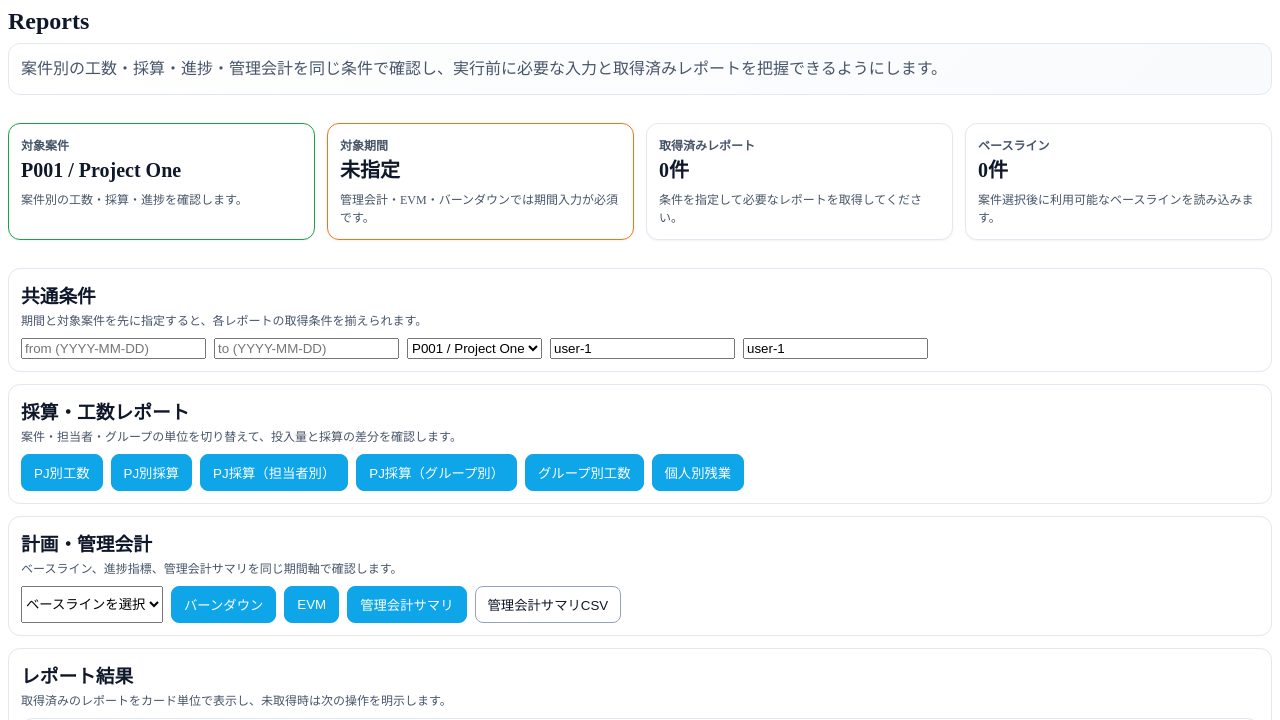
Test case: Reports › validates required inputs before running dependent reports
This screenshot has width=1280, height=720.
Step 1. Select "案件を選択" in the dropdown named "案件選択" → point(474, 348), box [407,338,542,359]
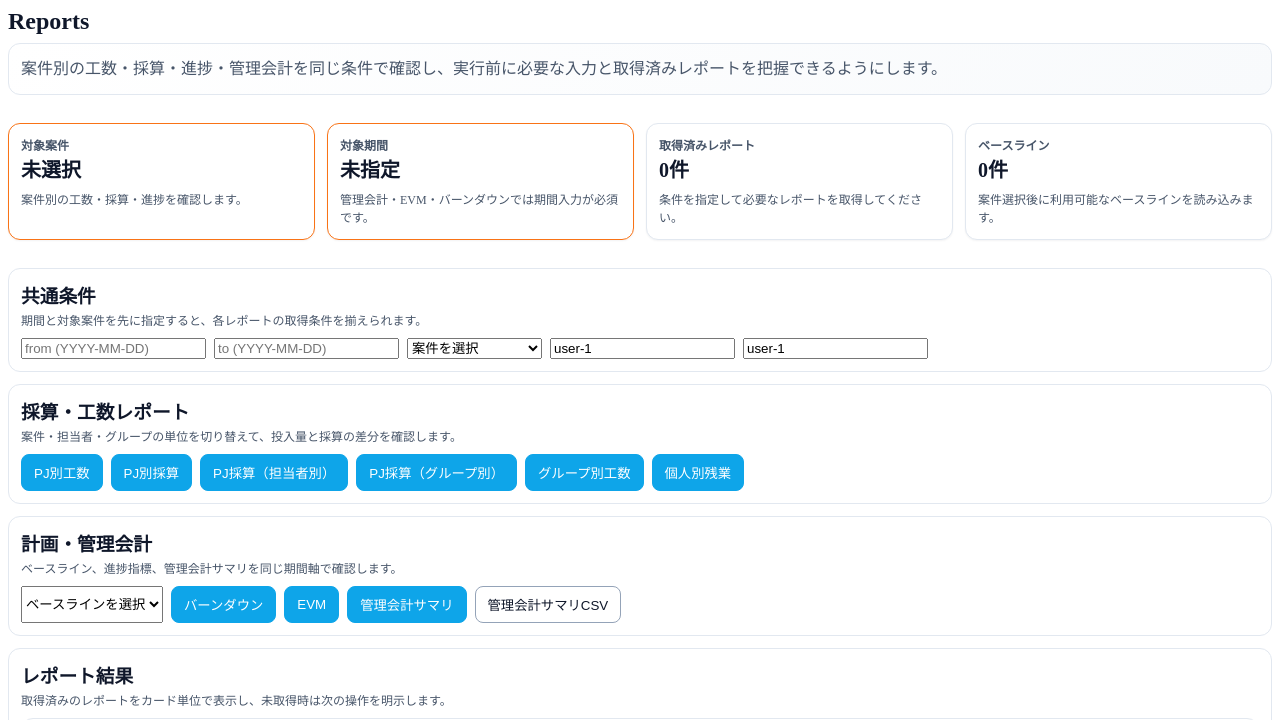
Step 2. Click the button "PJ別工数" → point(62, 472), box [21,454,102,491]
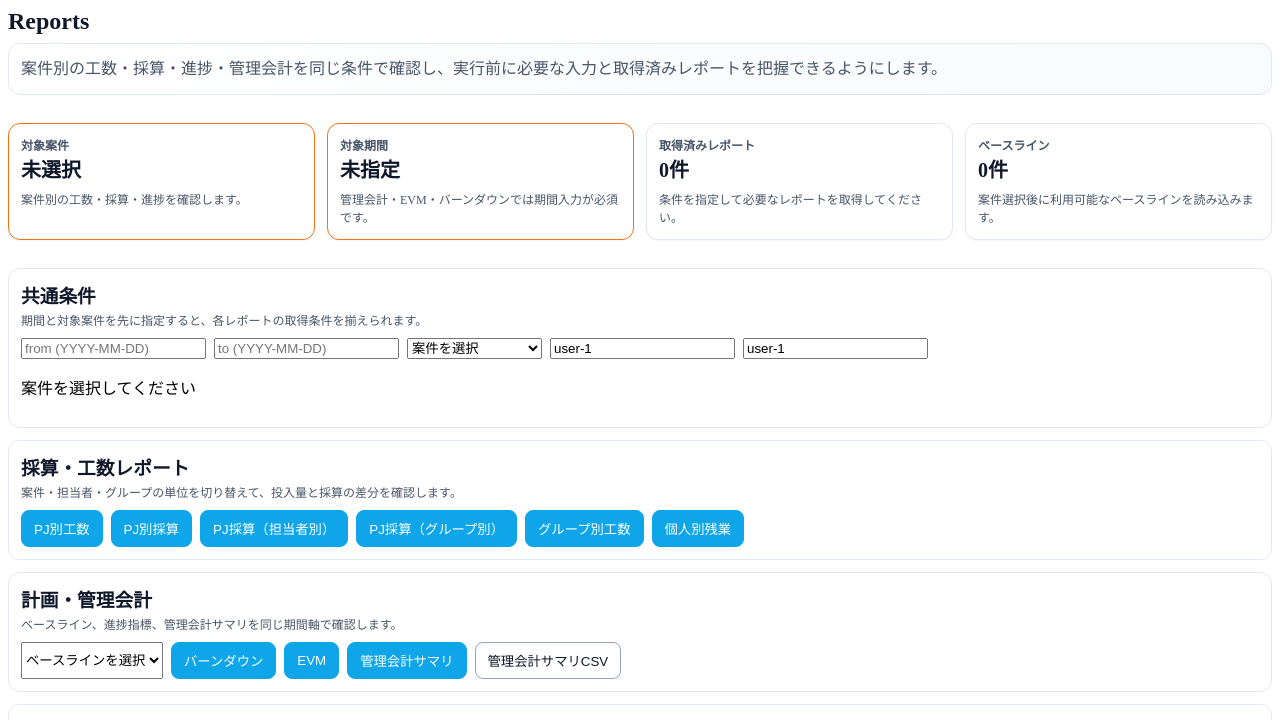
Expected: the text "案件を選択してください" is shown, [21,380,196,397]
Step 3. Click the button "管理会計サマリCSV" → point(548, 660), box [474,642,621,679]
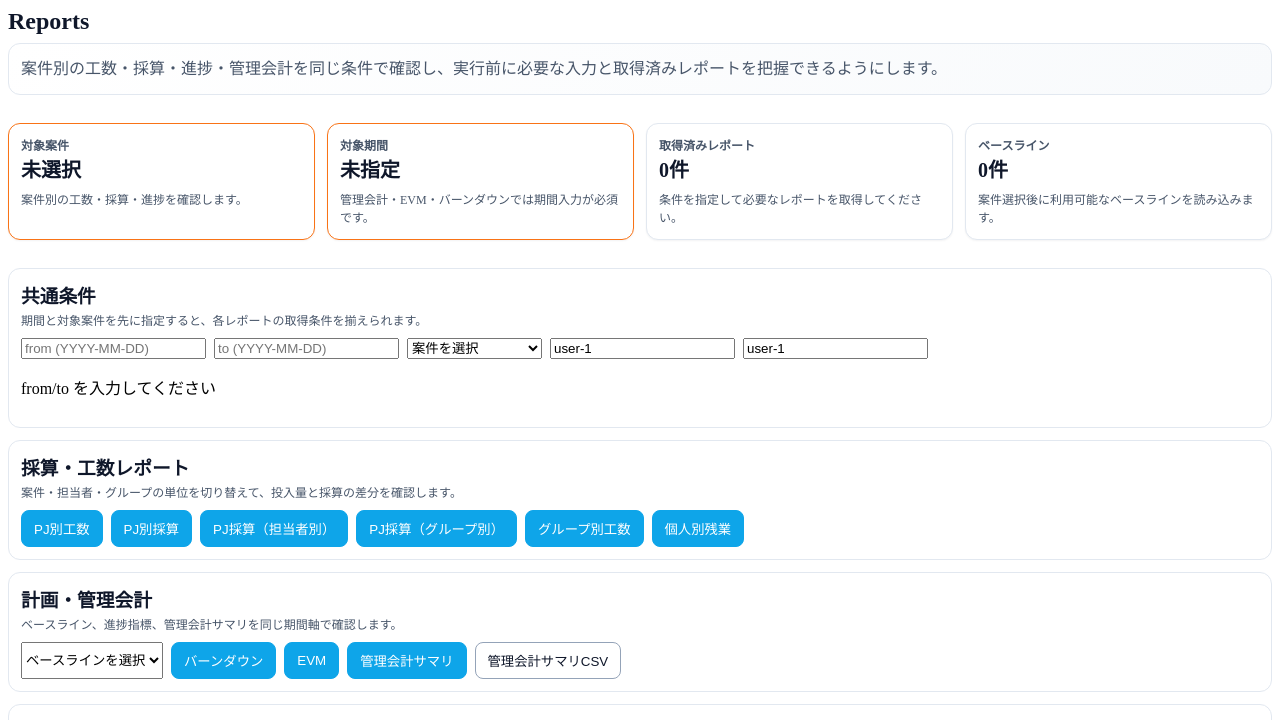
Expected: the text "from/to を入力してください" is shown, [21,380,216,397]
